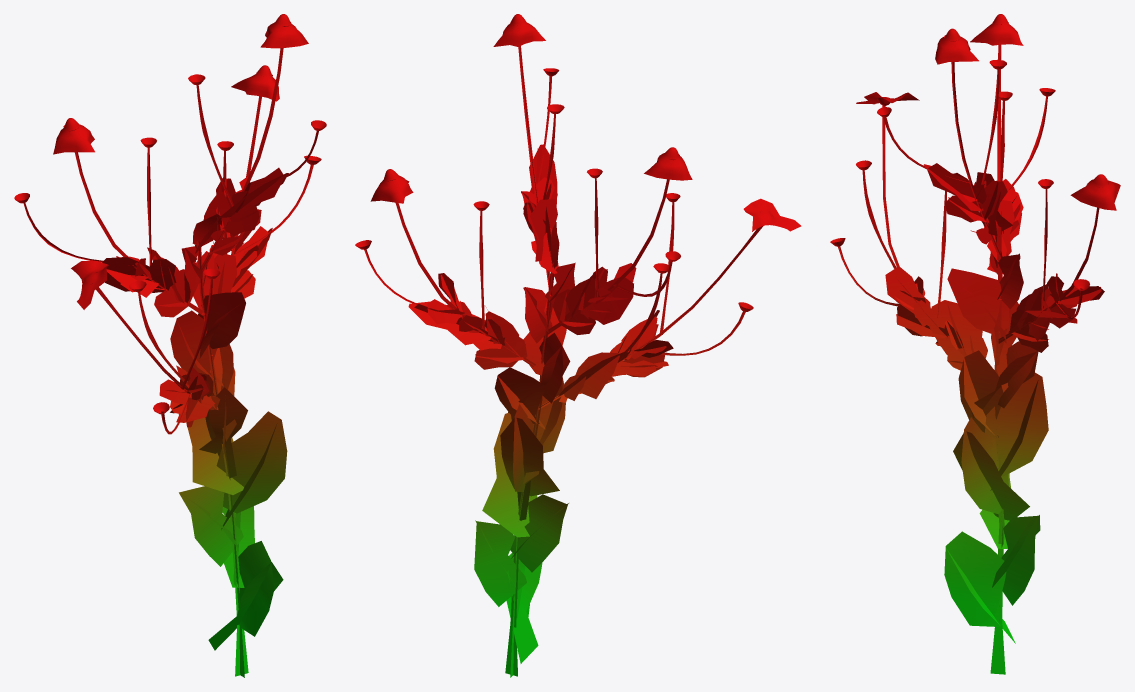
The model's file is Chamomile_LOD0_Var4_ujcnejvja.fbx.
3 views of the same model, side by side, from view 1: azimuth 30°, elevation 25°; view 2: azimuth 150°, elevation 25°; view 3: azimuth 270°, elevation 25° (orthographic). The views are drawn at different scales.
Parts seen in each view (by area): view 1: _nnnb_Var4_LOD0; view 2: _nnnb_Var4_LOD0; view 3: _nnnb_Var4_LOD0.
Boxes of the visible parts, <box> form: _nnnb_Var4_LOD0: <box>14,14,326,677</box>; _nnnb_Var4_LOD0: <box>355,14,801,677</box>; _nnnb_Var4_LOD0: <box>830,14,1120,674</box>.
Size of the model in its own units: 29.52 by 53.86 by 21.69.
